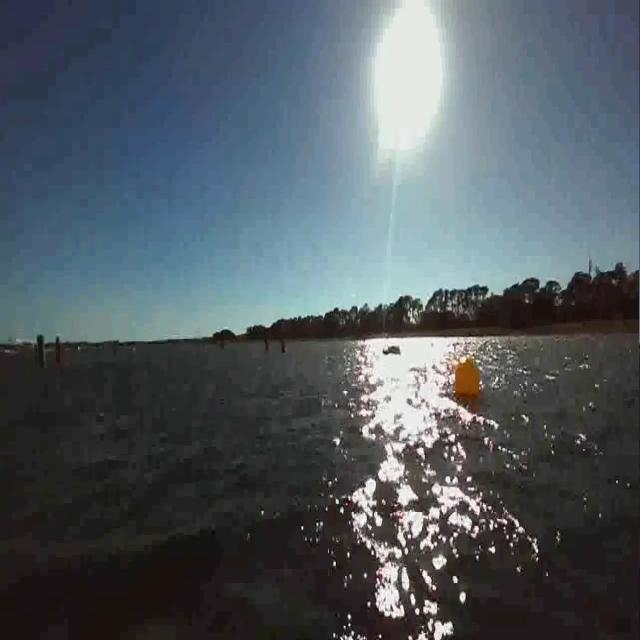green-column-buoy: (34, 329, 48, 373)
red-column-buoy: (54, 337, 66, 369)
yellow-buoy: (453, 354, 482, 399)
